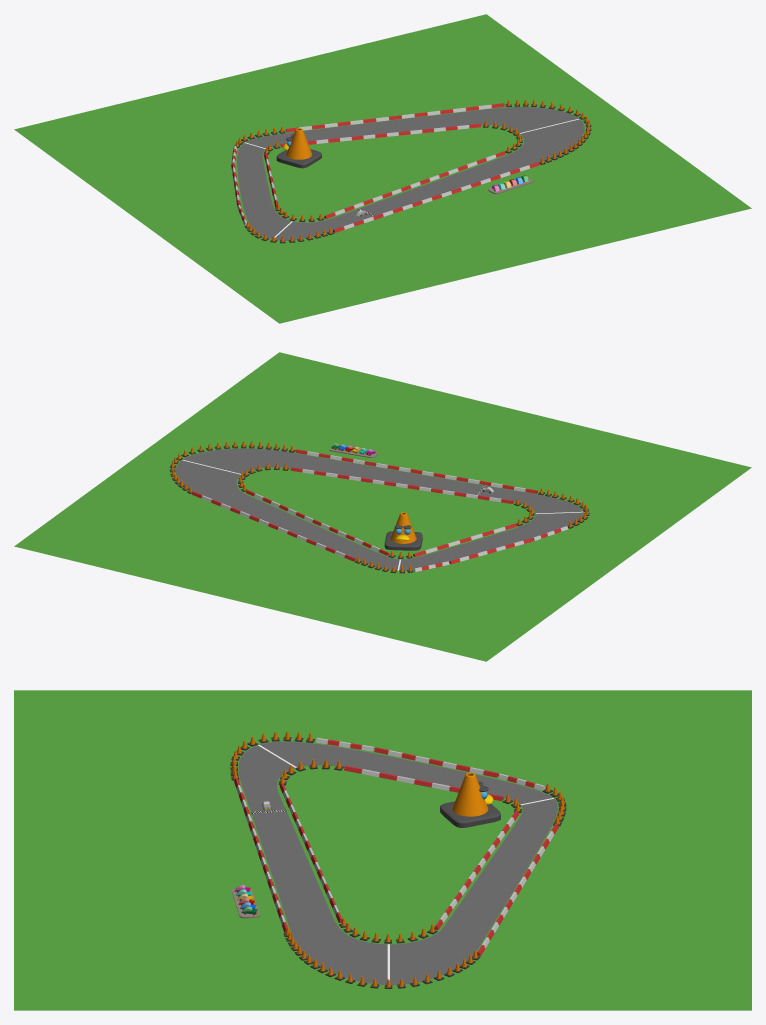
File: Track022.fbx
3 views of the same model, one above another, from view 1: azimuth 30°, elevation 25°; view 2: azimuth 150°, elevation 25°; view 3: azimuth 270°, elevation 25° (orthographic). The views are drawn at different scales.
Parts seen in each view (by area): view 1: Grass, Road, Barrier.002, Barrier.001, Barrier.005, Barrier.007, BigConeTop; view 2: Grass, Road, Barrier.002, Barrier.005, Barrier.001, Barrier.007; view 3: Grass, Road, BigConeTop, Barrier.002, Barrier.001, BigConeBase, Barrier.005, Barrier.007, Barrier.006, Barrier.009.
Boxes of the visible parts, x1,y1,x2,y2 form: Grass: (14, 14, 751, 323); Road: (237, 107, 584, 240); Barrier.002: (332, 162, 539, 232); Barrier.001: (285, 103, 504, 132); Barrier.005: (324, 151, 505, 218); Barrier.007: (280, 123, 480, 147); BigConeTop: (286, 128, 312, 159); Grass: (14, 352, 751, 661); Road: (175, 448, 583, 570); Barrier.002: (295, 449, 537, 493); Barrier.005: (290, 467, 513, 503); Barrier.001: (192, 491, 356, 561); Barrier.007: (246, 490, 389, 555); Grass: (14, 690, 751, 1010); Road: (238, 741, 557, 985); BigConeTop: (452, 772, 488, 816); Barrier.002: (234, 778, 287, 932); Barrier.001: (477, 823, 558, 956); BigConeBase: (440, 801, 500, 827); Barrier.005: (280, 783, 342, 922); Barrier.007: (434, 810, 519, 929); Barrier.006: (344, 765, 503, 801); Barrier.009: (374, 747, 498, 777).
Size of the model in its own units: 296 by 288 by 17.49.
